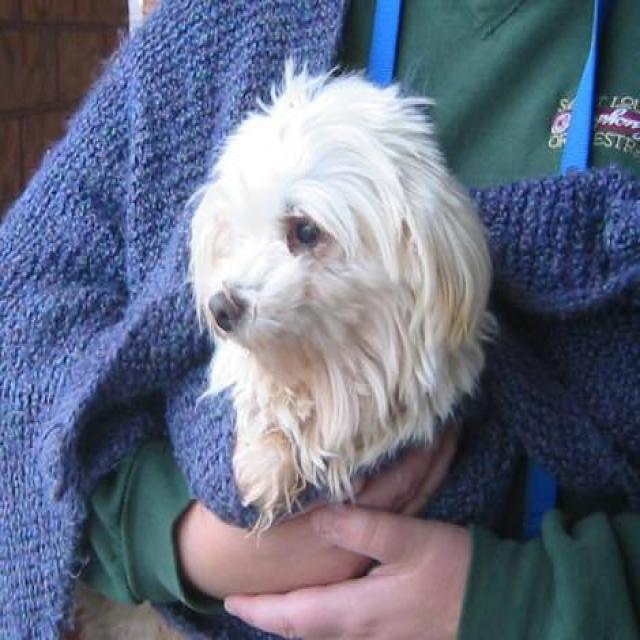dog: (60, 53, 498, 638)
